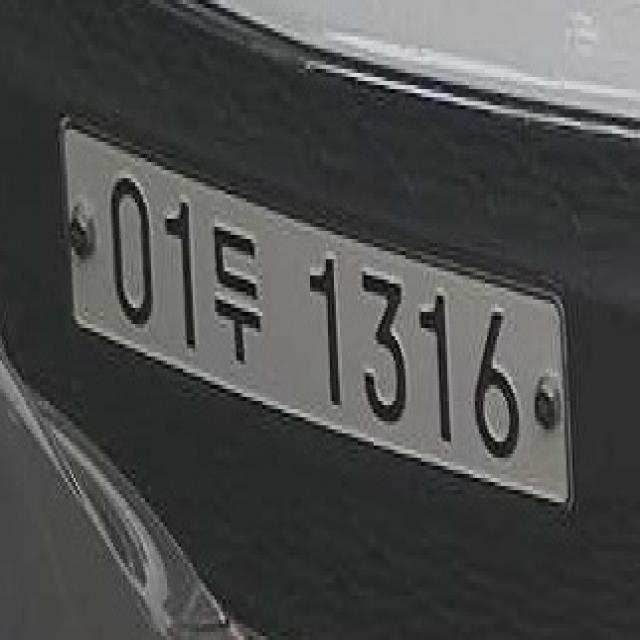0: (106, 169, 156, 339)
1: (416, 286, 462, 452), (306, 239, 346, 421), (162, 190, 202, 360)
3: (354, 270, 410, 434)
6: (470, 300, 522, 475)
du: (208, 214, 268, 377)
license_plate: (53, 103, 595, 547)
